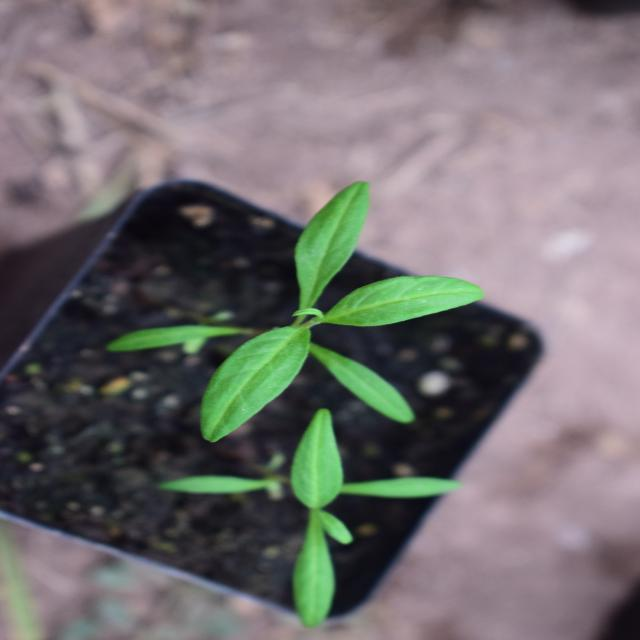white_smart_weed: (200, 156, 457, 528), (427, 180, 606, 447)
